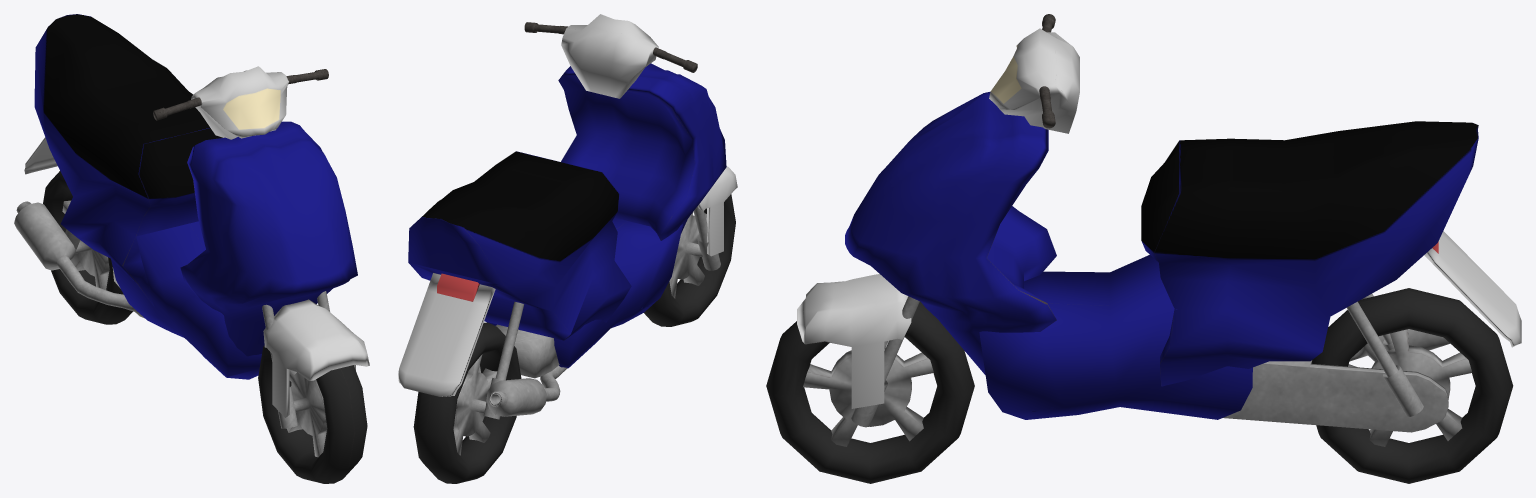
The model's file is motoVF.fbx.
3 views of the same model, side by side, from view 1: azimuth 30°, elevation 25°; view 2: azimuth 150°, elevation 25°; view 3: azimuth 270°, elevation 25° (orthographic). The views are drawn at different scales.
Visible parts, largest first — view 1: moto; view 2: moto; view 3: moto.
Boxes of the visible parts, left/top/right/bottom form: moto: left=14, top=14, right=369, bottom=483; moto: left=398, top=14, right=737, bottom=483; moto: left=766, top=14, right=1521, bottom=483.
Bounding box in the file's own units: 43.26 × 86.27 × 133.
1 material, 1 textured.
